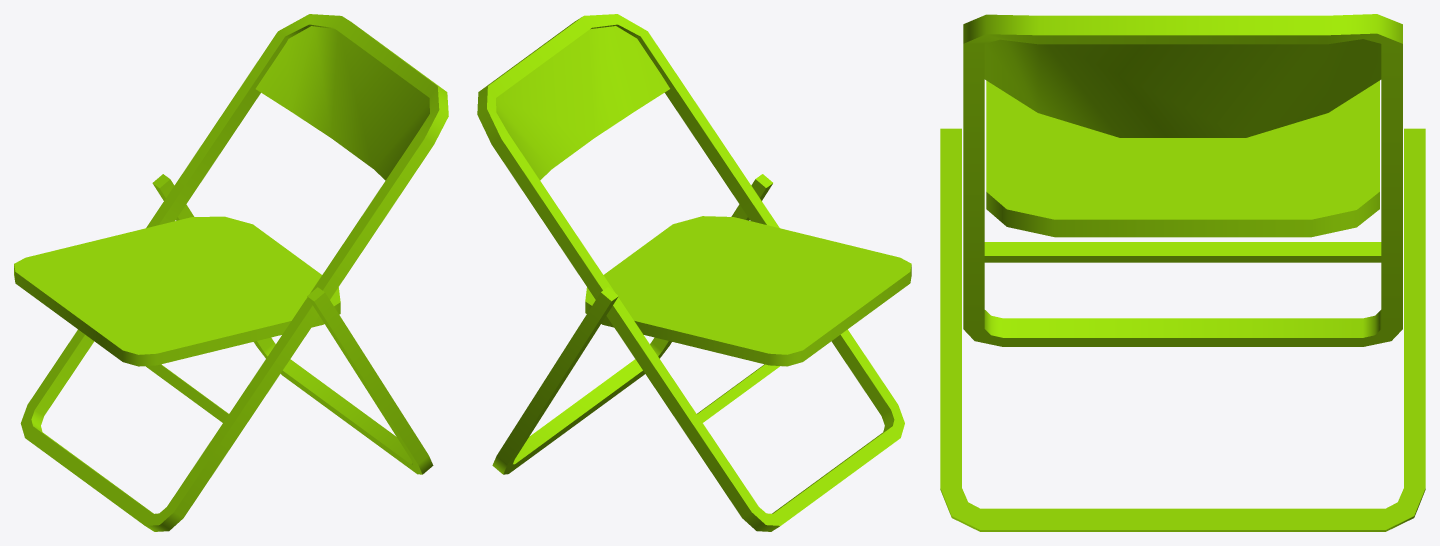
The model's file is Asset_Garage1_4.fbx.
3 renders of one model, left to right at view 1: azimuth 30°, elevation 25°; view 2: azimuth 150°, elevation 25°; view 3: azimuth 270°, elevation 25°, orthographic. The views are drawn at different scales.
Parts seen in each view (by area): view 1: Asset_Garage1_4; view 2: Asset_Garage1_4; view 3: Asset_Garage1_4.
Boxes of the visible parts, bbox=[...] form: Asset_Garage1_4: bbox=[14, 14, 448, 531]; Asset_Garage1_4: bbox=[477, 14, 911, 531]; Asset_Garage1_4: bbox=[940, 14, 1425, 531].
Size of the model in its own units: 47.66 by 50.33 by 40.44.
